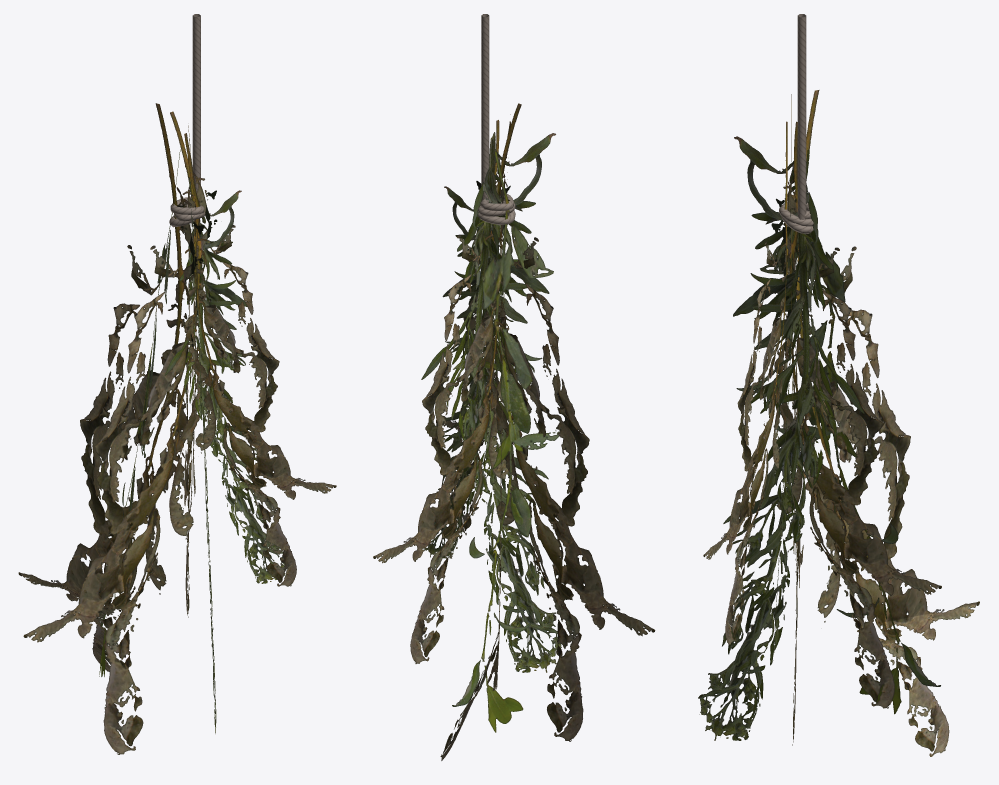
Rendered from SM_HangingBouquet2.fbx.
3 views of the same model, side by side, from view 1: azimuth 30°, elevation 25°; view 2: azimuth 150°, elevation 25°; view 3: azimuth 270°, elevation 25° (orthographic). The views are drawn at different scales.
Visible parts, largest first — view 1: SM_HangingBouquet2; view 2: SM_HangingBouquet2; view 3: SM_HangingBouquet2.
Boxes of the visible parts, left/top/right/bottom form: SM_HangingBouquet2: left=18, top=14, right=336, bottom=754; SM_HangingBouquet2: left=373, top=14, right=655, bottom=760; SM_HangingBouquet2: left=698, top=14, right=979, bottom=756.
Bounding box in the file's own units: 61.11 × 53.57 × 157.
